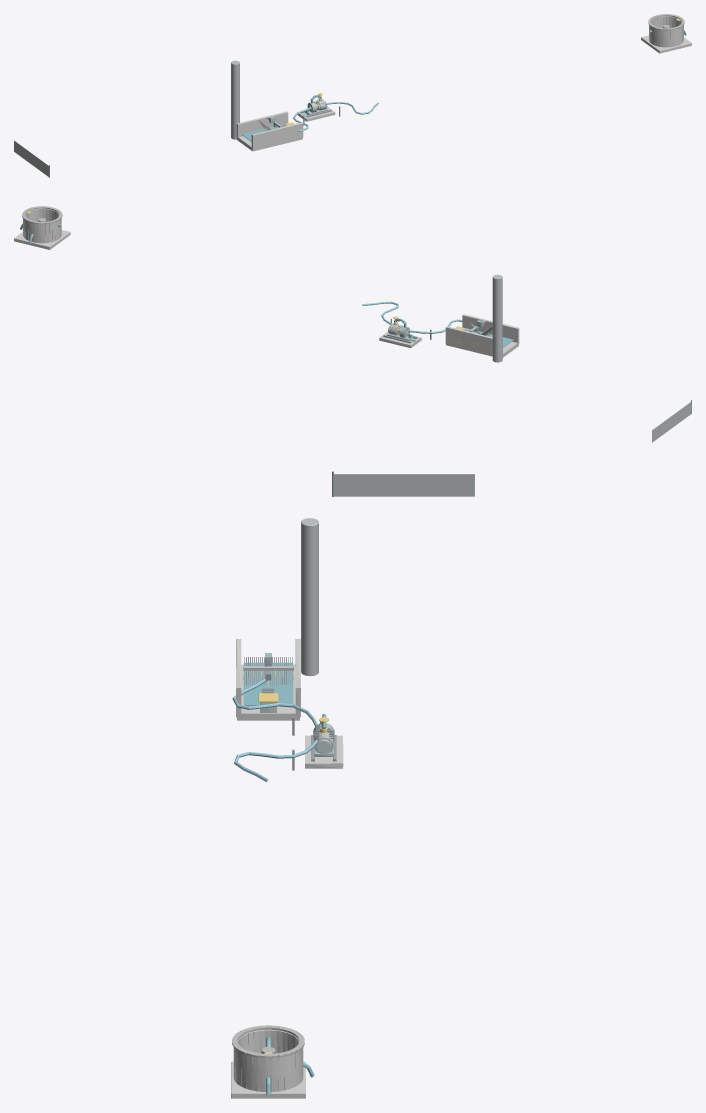
The picture shows the model from 3 angles, top to bottom: view 1: azimuth 30°, elevation 25°; view 2: azimuth 150°, elevation 25°; view 3: azimuth 270°, elevation 25°; orthographic projection. The views are drawn at different scales.
Visible parts, largest first — view 1: render-batch-9, render-batch-5; view 2: render-batch-9, render-batch-5; view 3: render-batch-9, render-batch-5, render-batch-0, render-batch-1, render-batch-6, render-batch-2.
Part boxes in pixels (x1,y1,x2,y2): render-batch-9: [236, 16, 691, 151]; render-batch-5: [14, 60, 239, 176]; render-batch-9: [14, 208, 519, 357]; render-batch-5: [492, 274, 691, 442]; render-batch-9: [231, 639, 343, 1098]; render-batch-5: [301, 474, 474, 676]; render-batch-0: [243, 662, 326, 1094]; render-batch-1: [232, 678, 317, 782]; render-batch-6: [232, 1025, 304, 1058]; render-batch-2: [244, 657, 336, 761].
Bounding box in the file's own units: 103 × 12 × 17.58.
